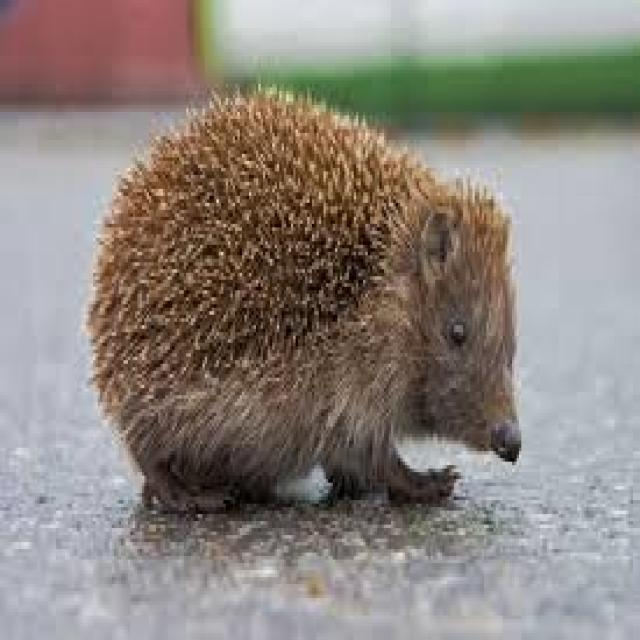Hedgehog: (86, 74, 530, 520)
